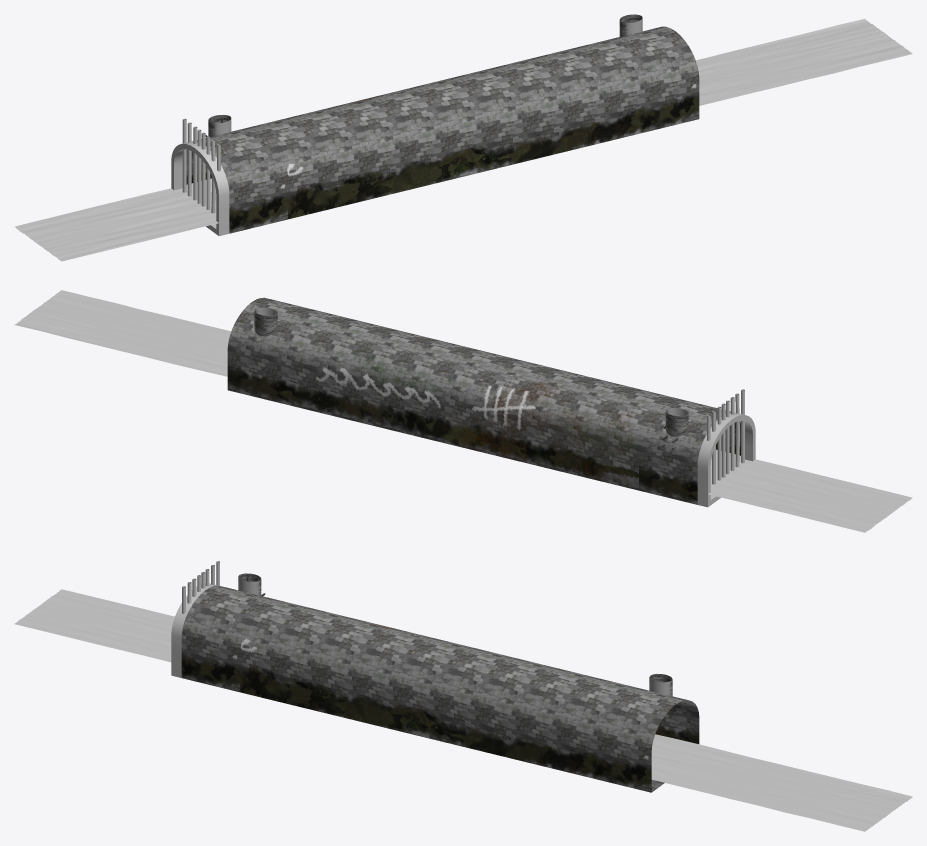
File: Kanale 1ň.fbx
3 views of the same model, one above another, from view 1: azimuth 30°, elevation 25°; view 2: azimuth 150°, elevation 25°; view 3: azimuth 330°, elevation 25° (orthographic).
Visible parts, largest first — view 1: Cylinder.004, Cylinder.008, Cylinder.010; view 2: Cylinder.004, Cylinder.008, Cylinder.010; view 3: Cylinder.004, Cylinder.008, Cylinder.010.
Boxes of the visible parts, x1,y1,x2,y2 form: Cylinder.004: (186,14,699,233); Cylinder.008: (14,19,912,261); Cylinder.010: (171,118,229,236); Cylinder.004: (227,297,740,504); Cylinder.008: (14,290,912,532); Cylinder.010: (697,389,755,507); Cylinder.004: (181,573,699,792); Cylinder.008: (14,589,912,831); Cylinder.010: (171,561,219,677).
Size of the model in its own units: 11318 by 1086 by 1115.
